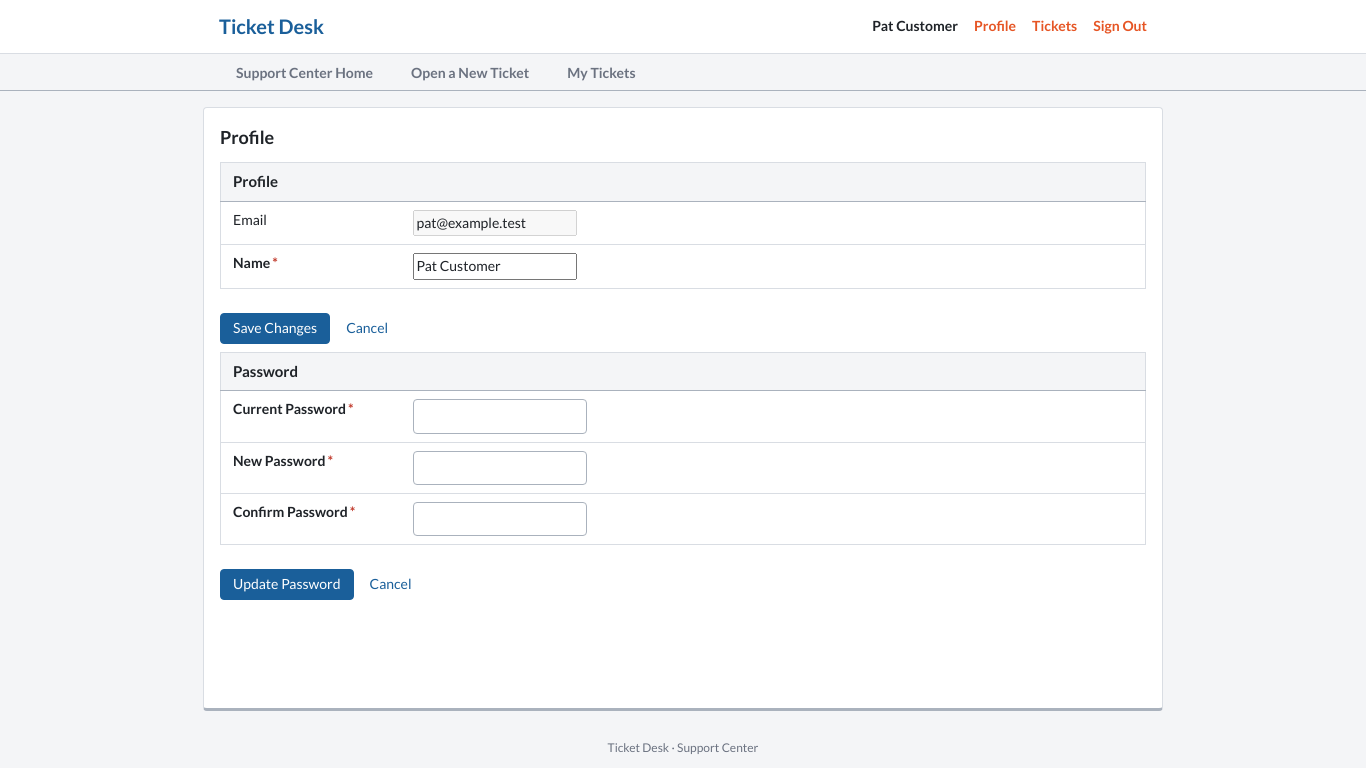
Test: has_password: true shows Current, New and Confirm and posts password + current_password
Expected: the field labelled "Name*" is shown, [412, 253, 576, 280]
Expected: the column heading "Password" is shown, [220, 352, 1146, 391]
Type "oldpass1" into the password field labelled "Current Password*".
click(500, 416); type("oldpass1")  # box [412, 399, 586, 434]
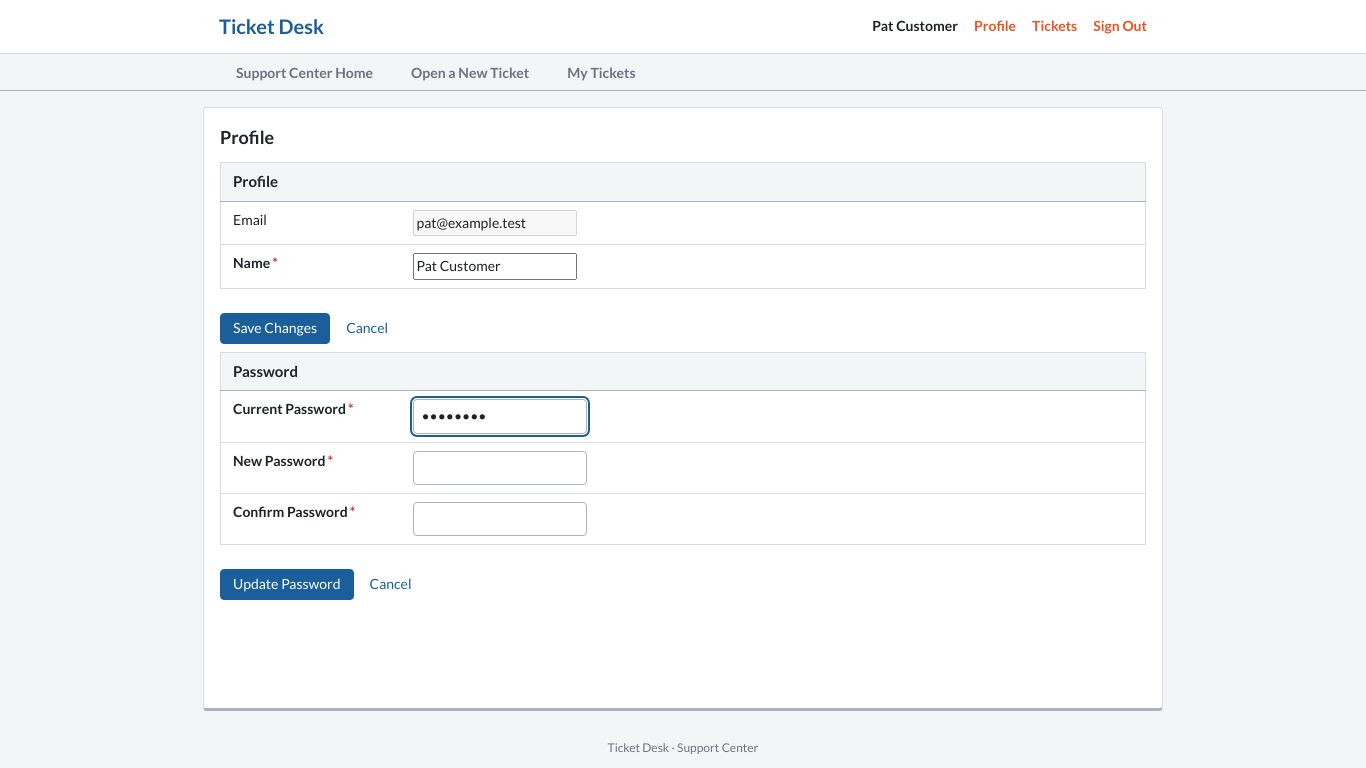
Type "newpass1" into the password field labelled "New Password*".
click(500, 468); type("newpass1")  # box [412, 451, 586, 485]
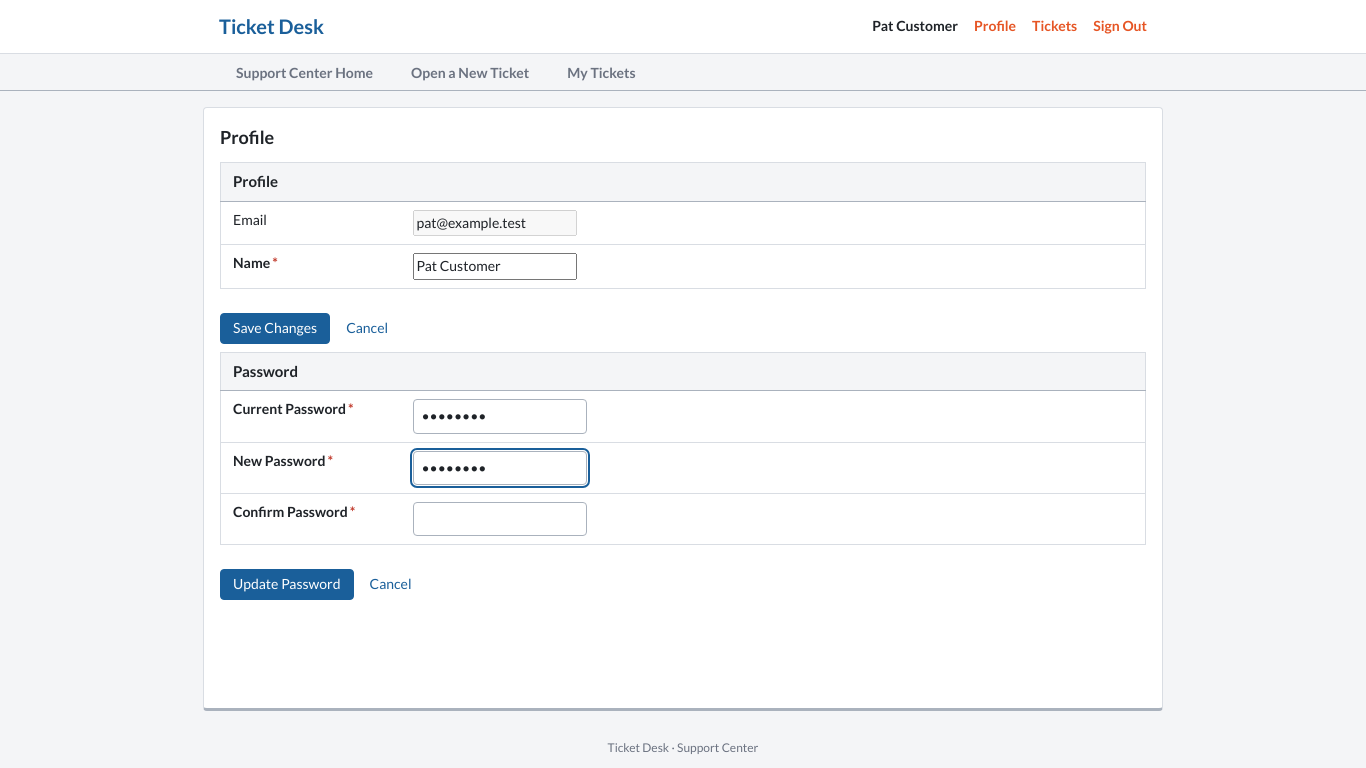
Type "newpass1" into the password field labelled "Confirm Password*".
click(500, 519); type("newpass1")  # box [412, 502, 586, 536]
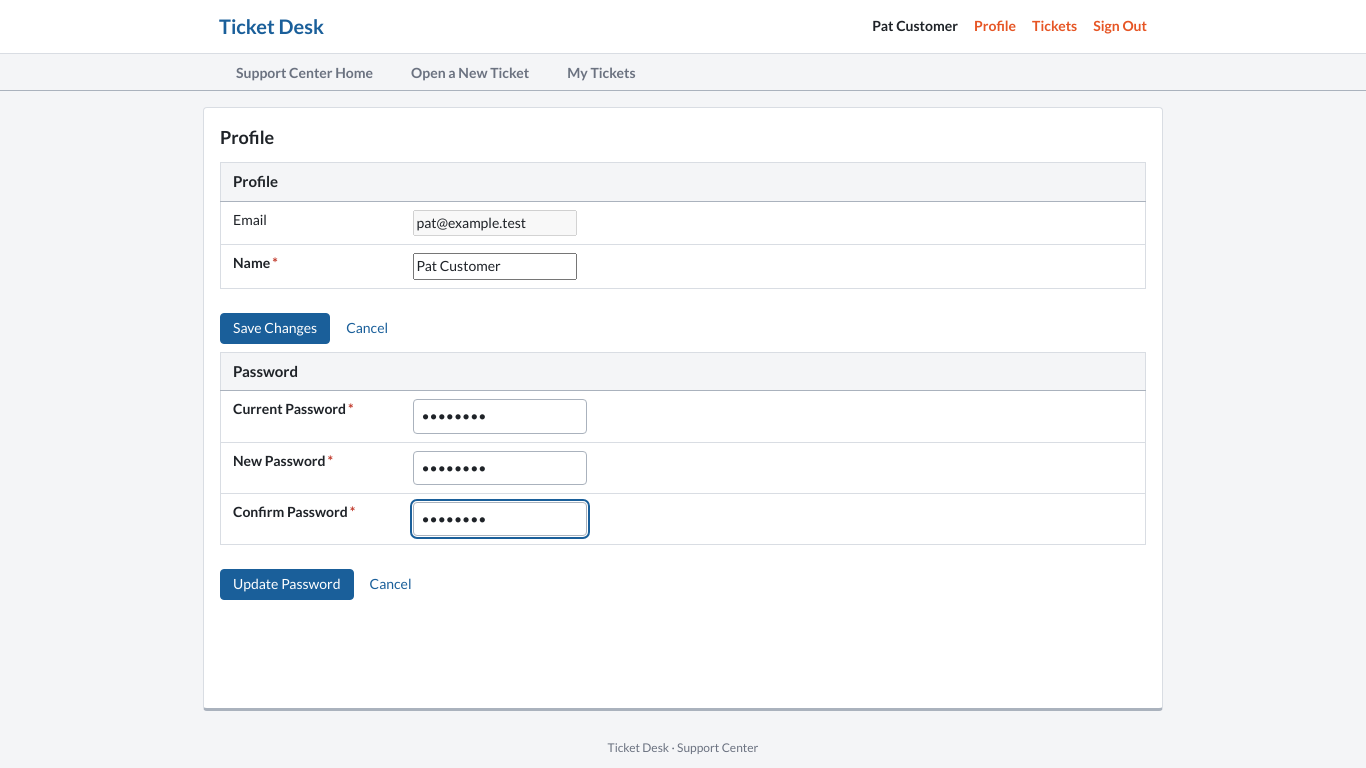
Click the button "Update Password".
click(287, 585)  # box [220, 569, 354, 600]
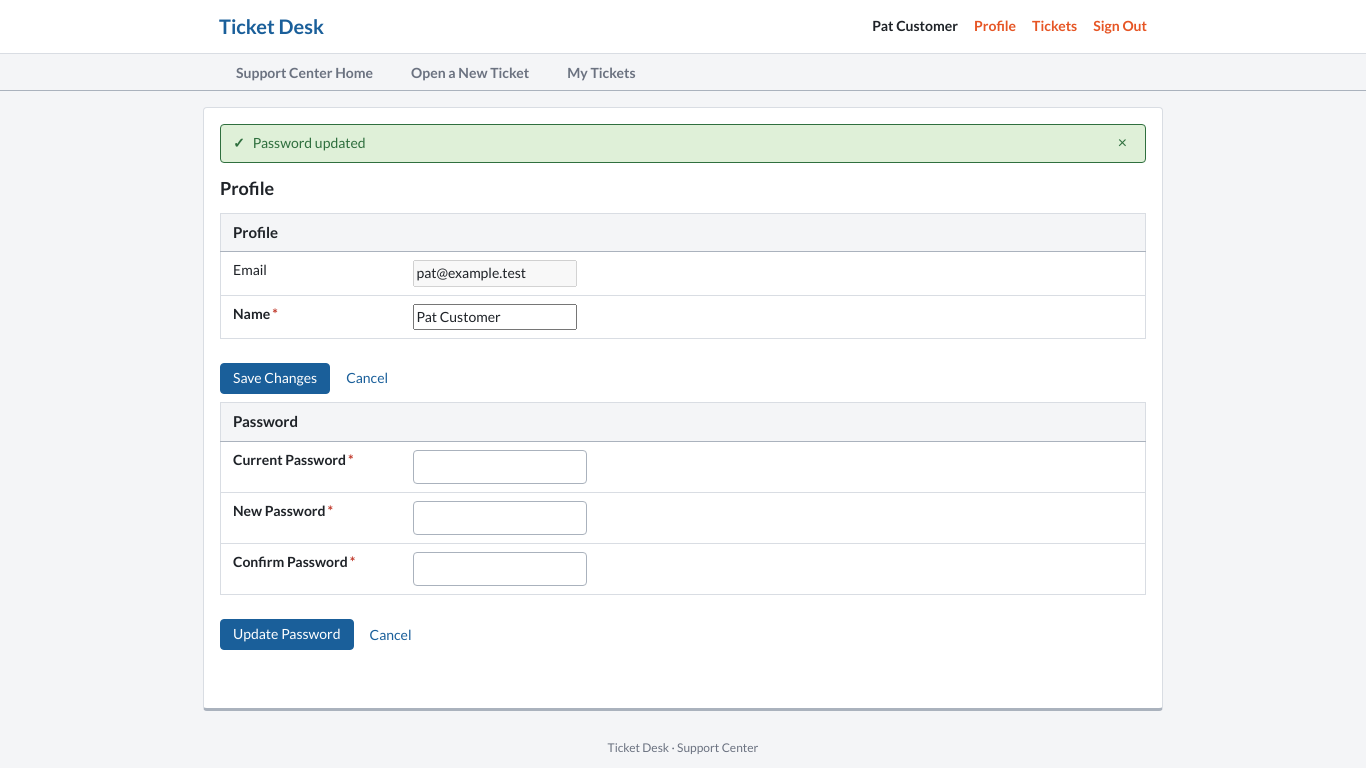
Result: the text "Password updated" is shown at [253, 134, 366, 151]
